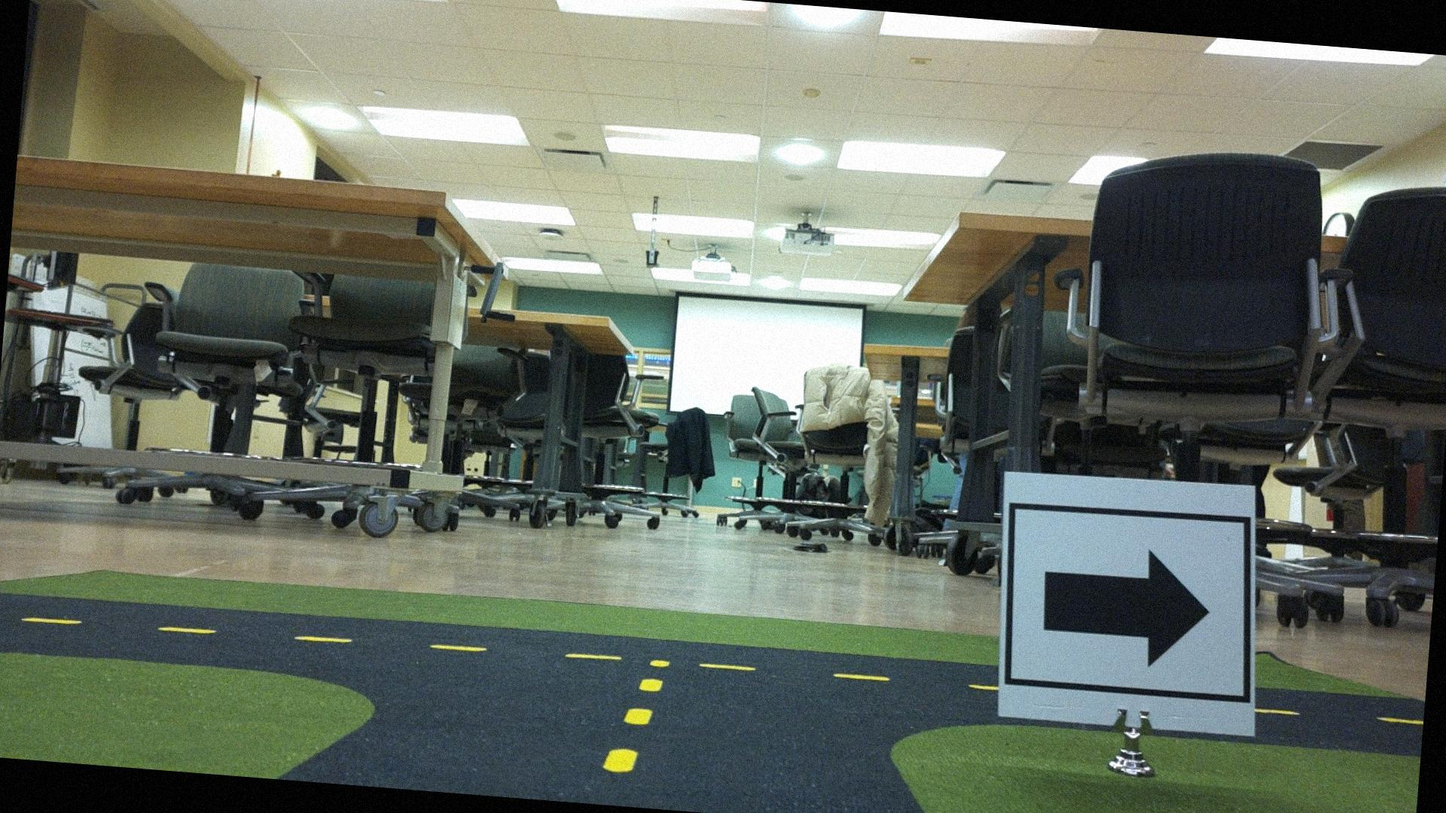turnleft: (995, 473, 1261, 720)
yellowline: (22, 607, 984, 696), (603, 671, 664, 778)
